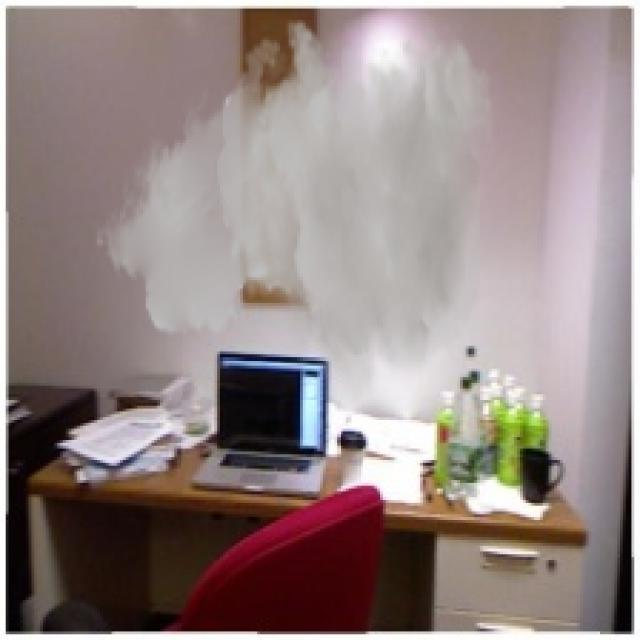Smoke: (94, 17, 494, 423)
